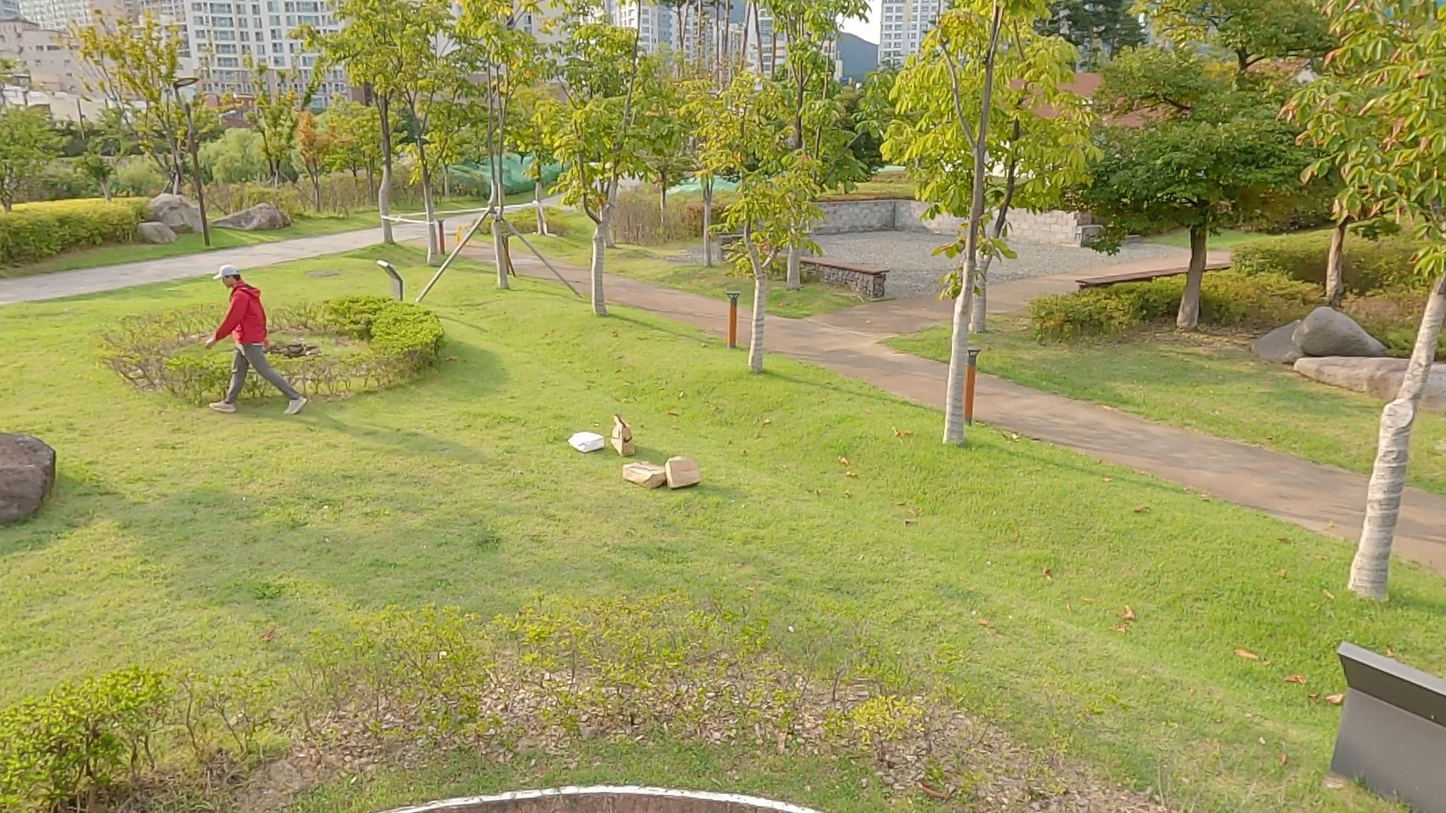person: (203, 265, 306, 418)
trash: (620, 457, 668, 490), (662, 454, 702, 490), (609, 412, 637, 457), (566, 428, 604, 452)
